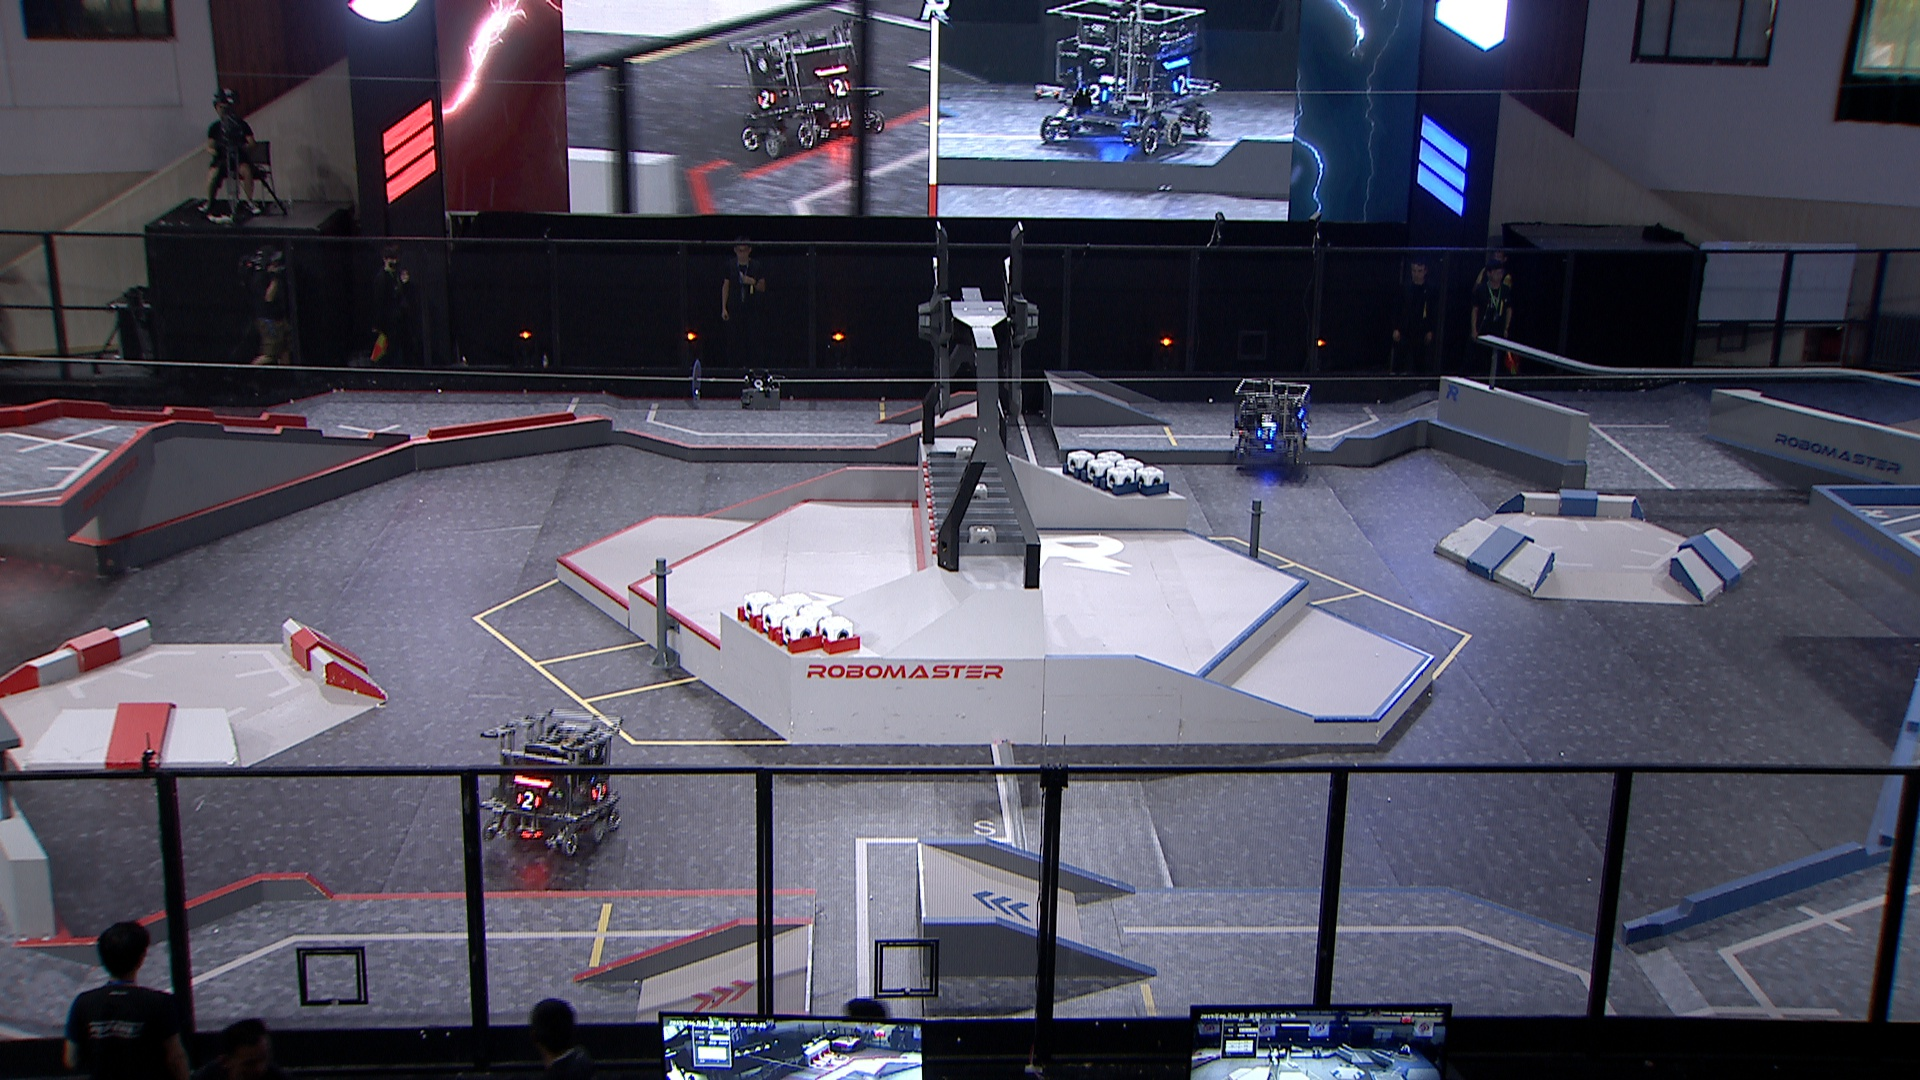armor: (513, 789, 543, 812), (588, 781, 611, 802), (1255, 427, 1276, 442), (1296, 417, 1311, 434)
car: (477, 703, 621, 858), (1228, 377, 1313, 475)
ignore: (727, 18, 891, 160), (1396, 1040, 1414, 1058)
